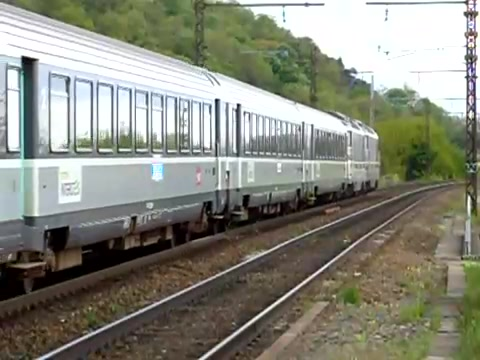train: (1, 4, 384, 286)
